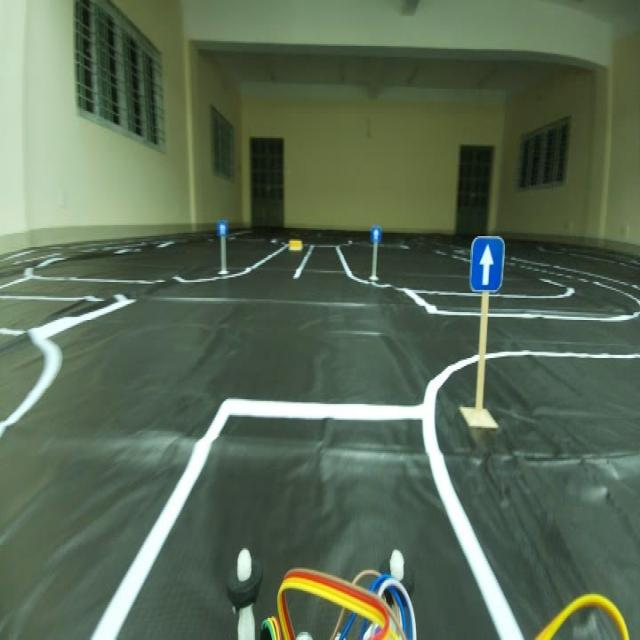onewayroad: (470, 227, 508, 305), (217, 216, 230, 242), (371, 225, 382, 247)
roadblock: (288, 236, 304, 255)
